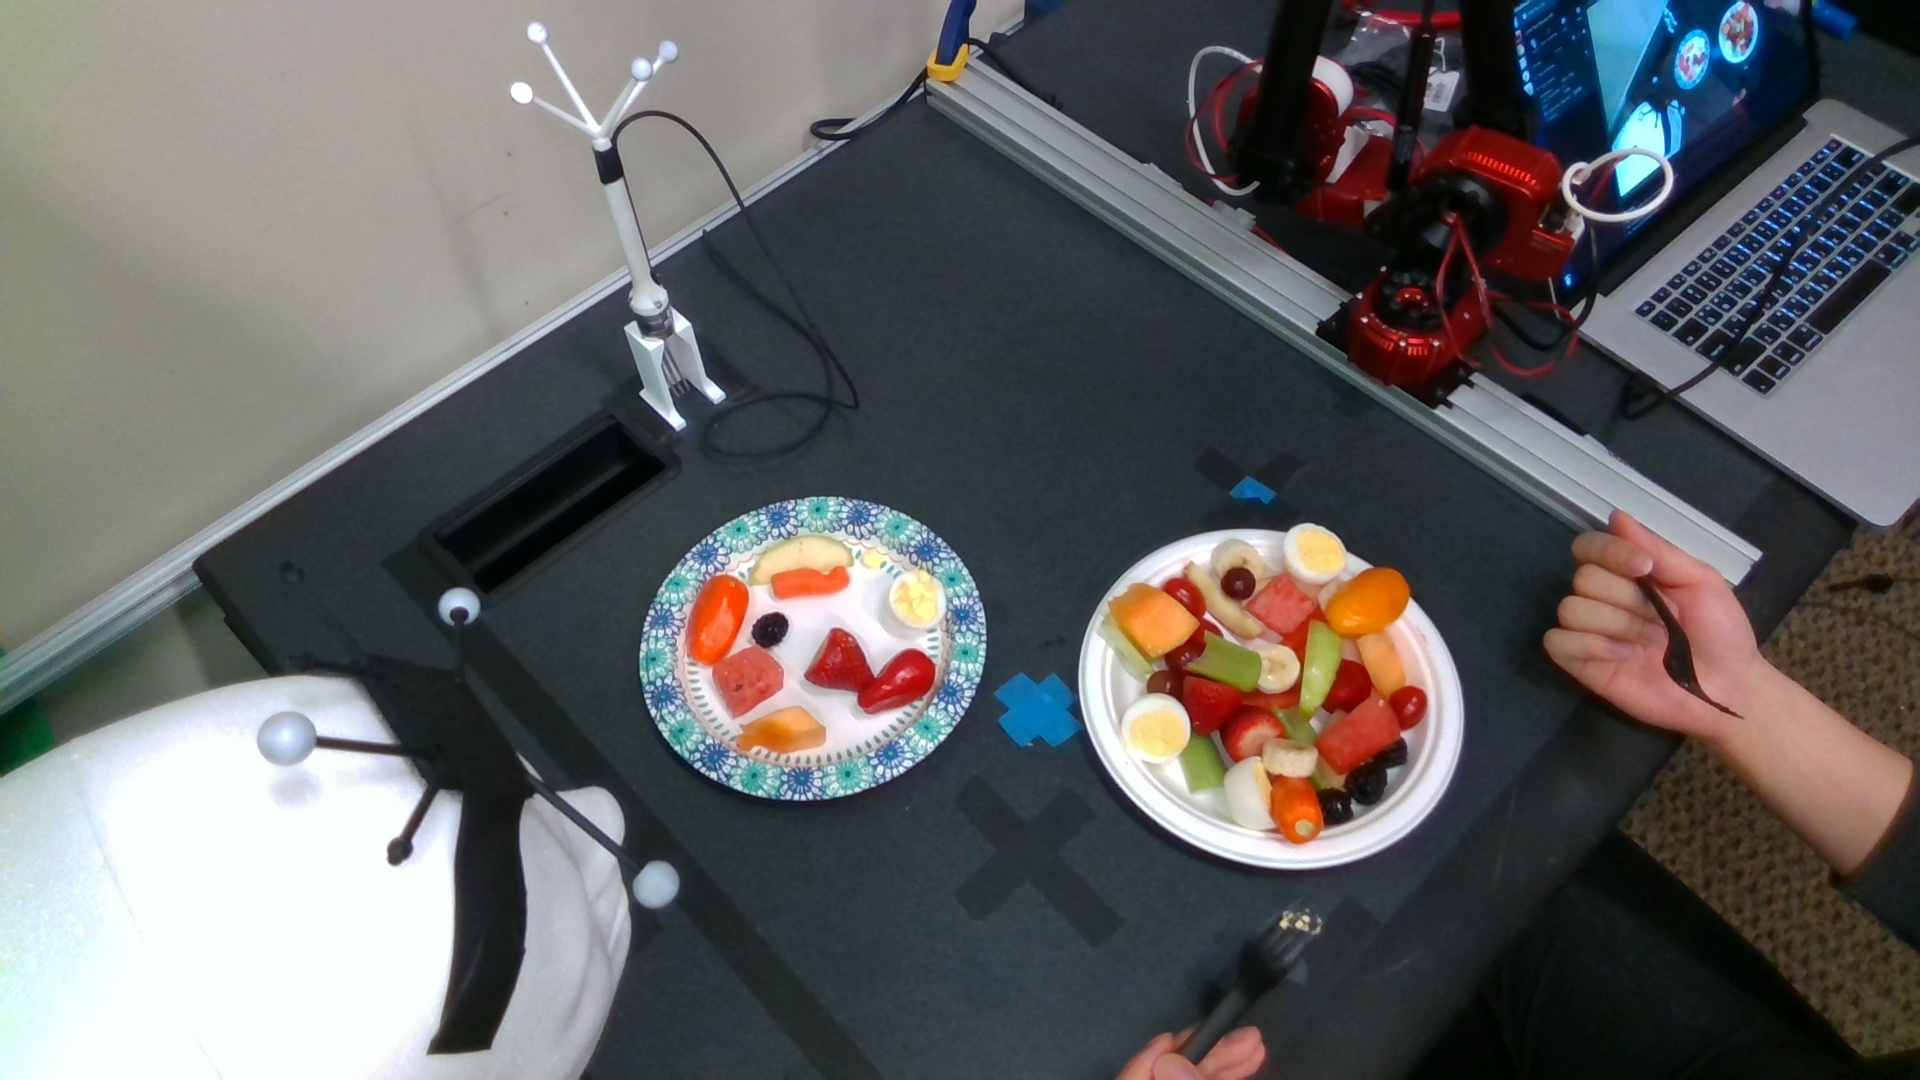apple: (746, 535, 855, 583), (1299, 620, 1342, 711)
banana: (1258, 645, 1302, 694), (1262, 738, 1317, 777)
bell_pepper: (1331, 568, 1408, 636), (688, 576, 748, 663), (858, 649, 935, 713), (1274, 779, 1323, 844)
blackberry: (1346, 764, 1387, 806), (1317, 789, 1353, 824), (752, 613, 789, 647)
cantalope: (1112, 585, 1197, 634), (742, 707, 825, 756), (1357, 633, 1407, 695)
carrot: (771, 566, 851, 597)
celery: (1189, 636, 1261, 694), (1179, 735, 1228, 794)
cherry_tomato: (1162, 580, 1204, 620), (1393, 688, 1427, 729)
egg: (1124, 695, 1189, 761), (1283, 524, 1346, 584), (1225, 756, 1276, 829), (890, 571, 945, 629)
grape: (1220, 568, 1255, 601)
melon: (1317, 699, 1398, 773), (713, 646, 783, 717), (1247, 574, 1316, 632)
plate: (1079, 529, 1464, 869), (638, 497, 985, 800)
strawberry: (804, 626, 874, 692), (1222, 707, 1284, 764), (1185, 676, 1242, 735), (1323, 661, 1367, 713)
